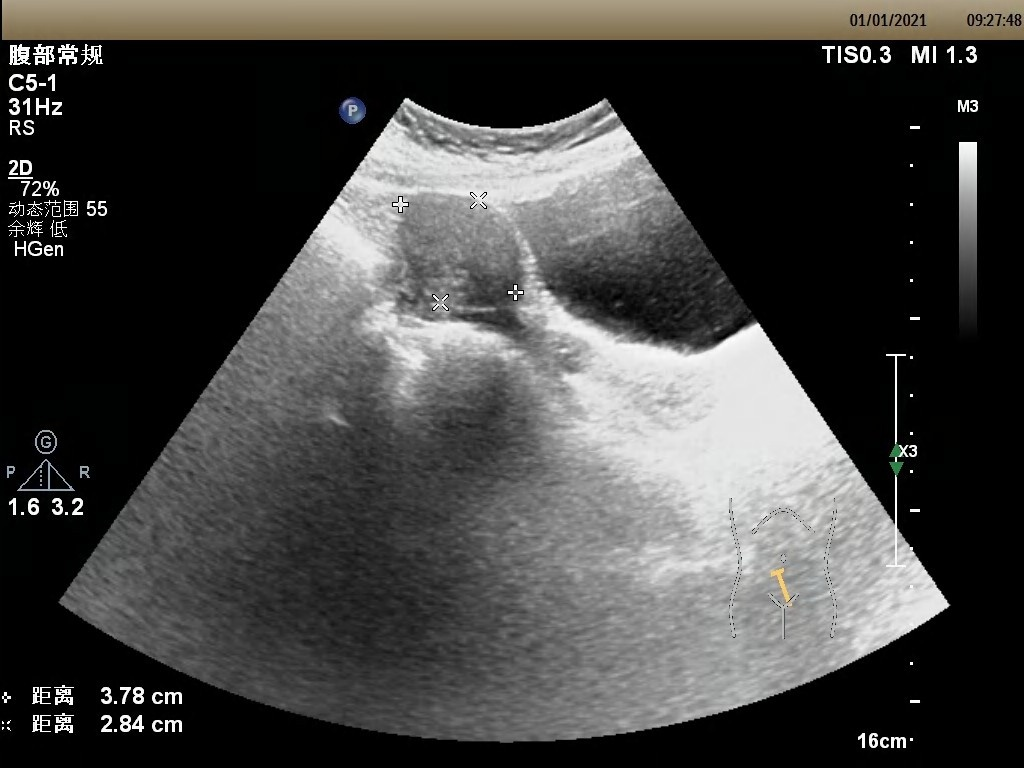肌瘤: (398, 196, 519, 313)
